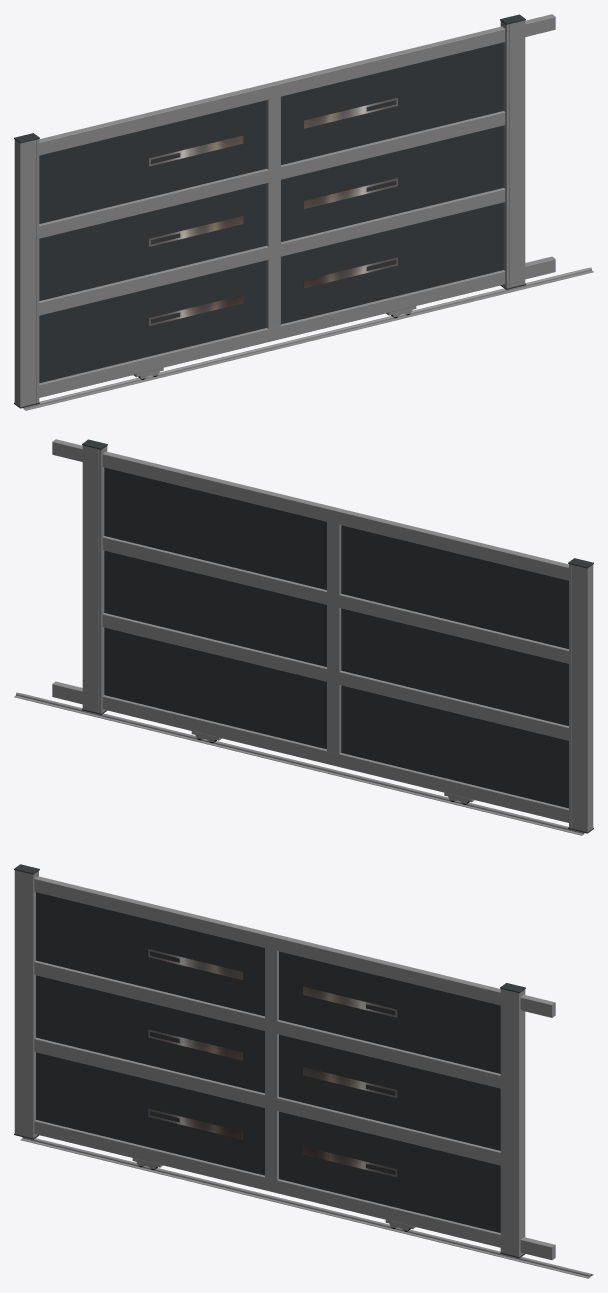
3 views of the same model, one above another, from view 1: azimuth 30°, elevation 25°; view 2: azimuth 150°, elevation 25°; view 3: azimuth 330°, elevation 25° (orthographic).
Visible parts, largest first — view 1: Box2392, Shape107412904, Shape107412905, Shape107412906, Shape107412907, Shape107412643, Shape107413021, Rail, Shape107413020, vulcano, vulcano001; view 2: Box2392, Shape107412904, Shape107412905, Shape107412906, Shape107412907, Shape107412643, Shape107413021, Rail, Shape107413020; view 3: Box2392, Shape107412904, Shape107412905, Shape107412907, Shape107412906, Shape107413021, Shape107412643, Rail, Shape107413020, vulcano001, vulcano.
Boxes of the visible parts, box(x1,y1,x2,y2) form: Box2392: box(39, 42, 503, 383); Shape107412904: box(39, 14, 555, 155); Shape107412905: box(39, 256, 555, 397); Shape107412906: box(39, 111, 505, 238); Shape107412907: box(39, 188, 505, 315); Shape107412643: box(14, 139, 39, 407); Shape107413021: box(500, 20, 525, 288); Rail: box(22, 267, 593, 410); Shape107413020: box(266, 96, 280, 328); vulcano: box(149, 135, 243, 325); vulcano001: box(303, 98, 397, 288); Box2392: box(104, 467, 568, 808); Shape107412904: box(52, 439, 568, 580); Shape107412905: box(52, 681, 568, 822); Shape107412906: box(102, 536, 568, 663); Shape107412907: box(102, 613, 568, 740); Shape107412643: box(569, 564, 593, 831); Shape107413021: box(82, 445, 107, 713); Rail: box(14, 692, 585, 835); Shape107413020: box(327, 521, 341, 753); Box2392: box(36, 892, 500, 1232); Shape107412904: box(34, 876, 555, 1017); Shape107412905: box(34, 1120, 555, 1260); Shape107412907: box(34, 1037, 500, 1165); Shape107412906: box(34, 960, 500, 1088); Shape107413021: box(500, 989, 525, 1256); Shape107412643: box(14, 870, 38, 1138); Rail: box(20, 1137, 593, 1278); Shape107413020: box(265, 948, 278, 1180); vulcano001: box(303, 987, 397, 1177); vulcano: box(148, 949, 242, 1139).
Size of the model in its own units: 3638 by 1636 by 70.
8 materials, 4 textured.
